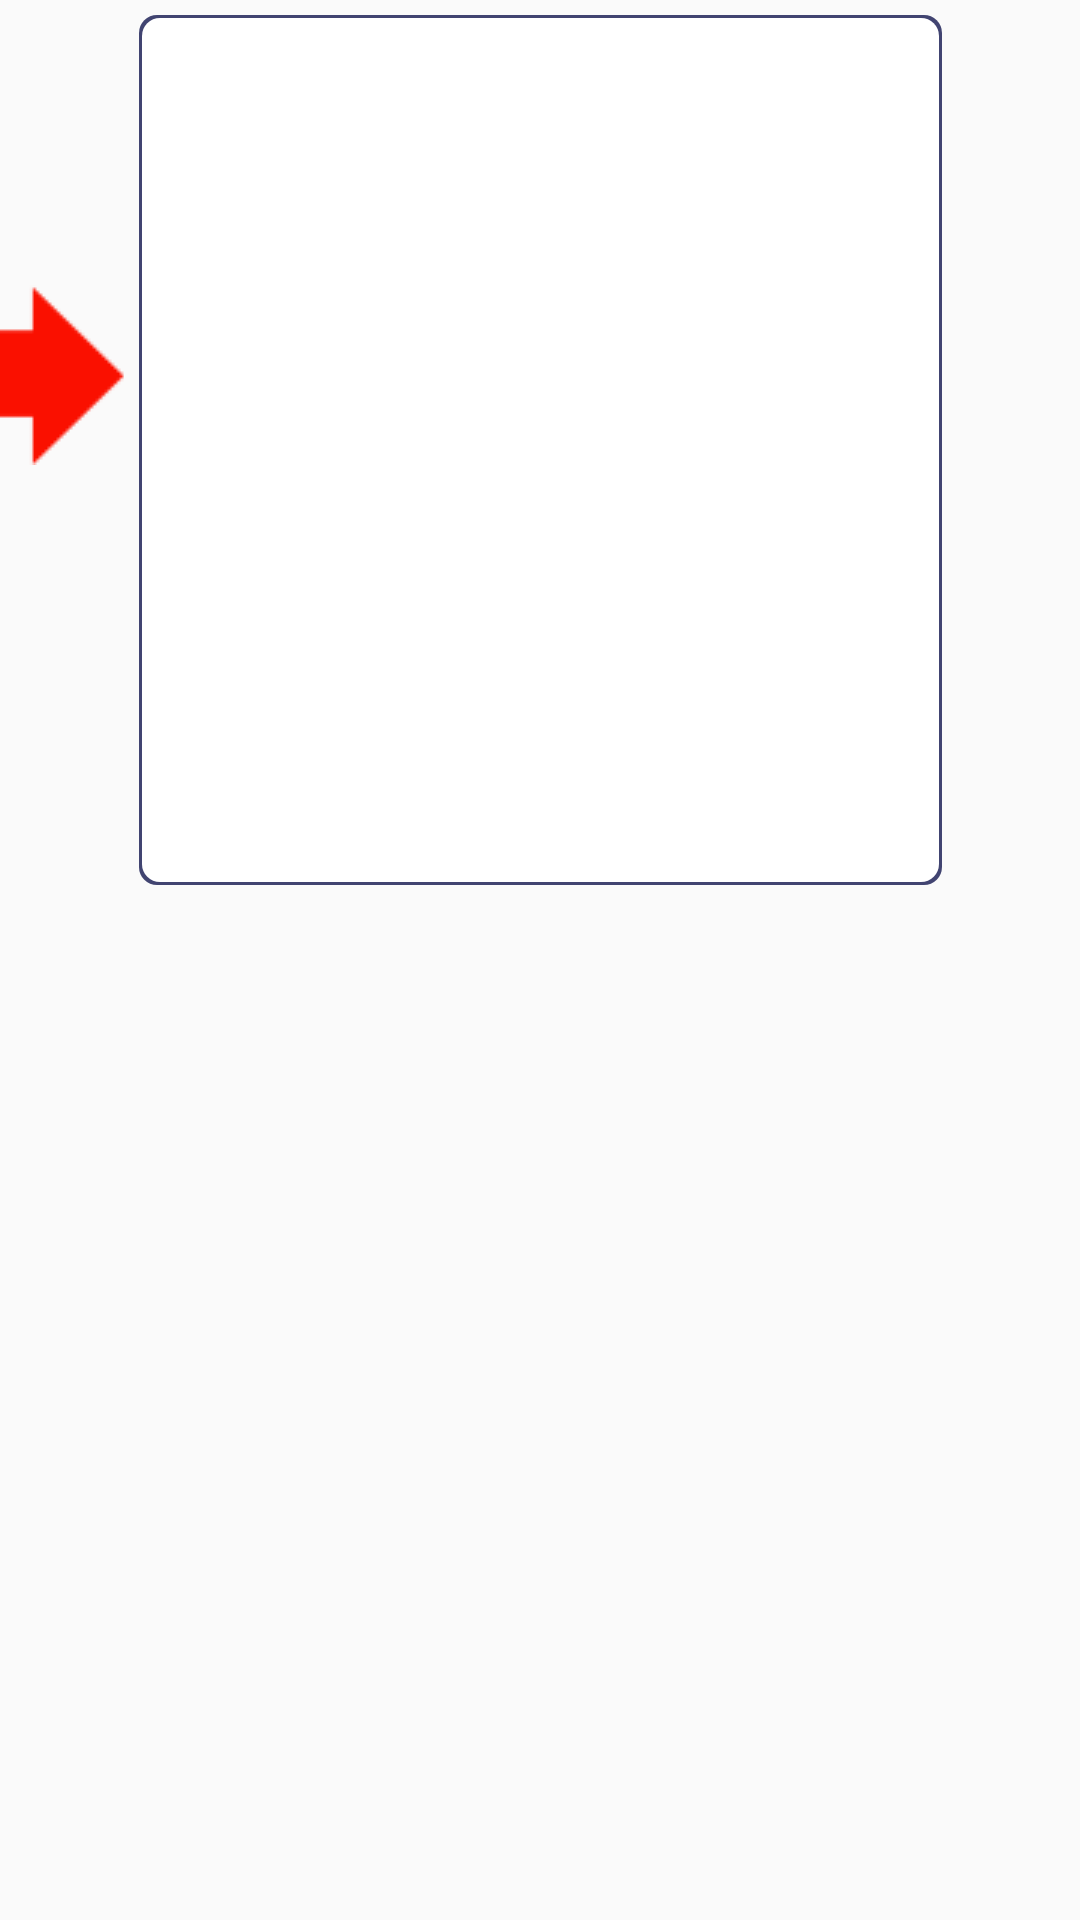

Icon bounding boxes for this 1080x1920 phone screenshot, format (left=x1, top=y1, right=x2, bottom=y2):
arrow: (left=0, top=287, right=124, bottom=465)
